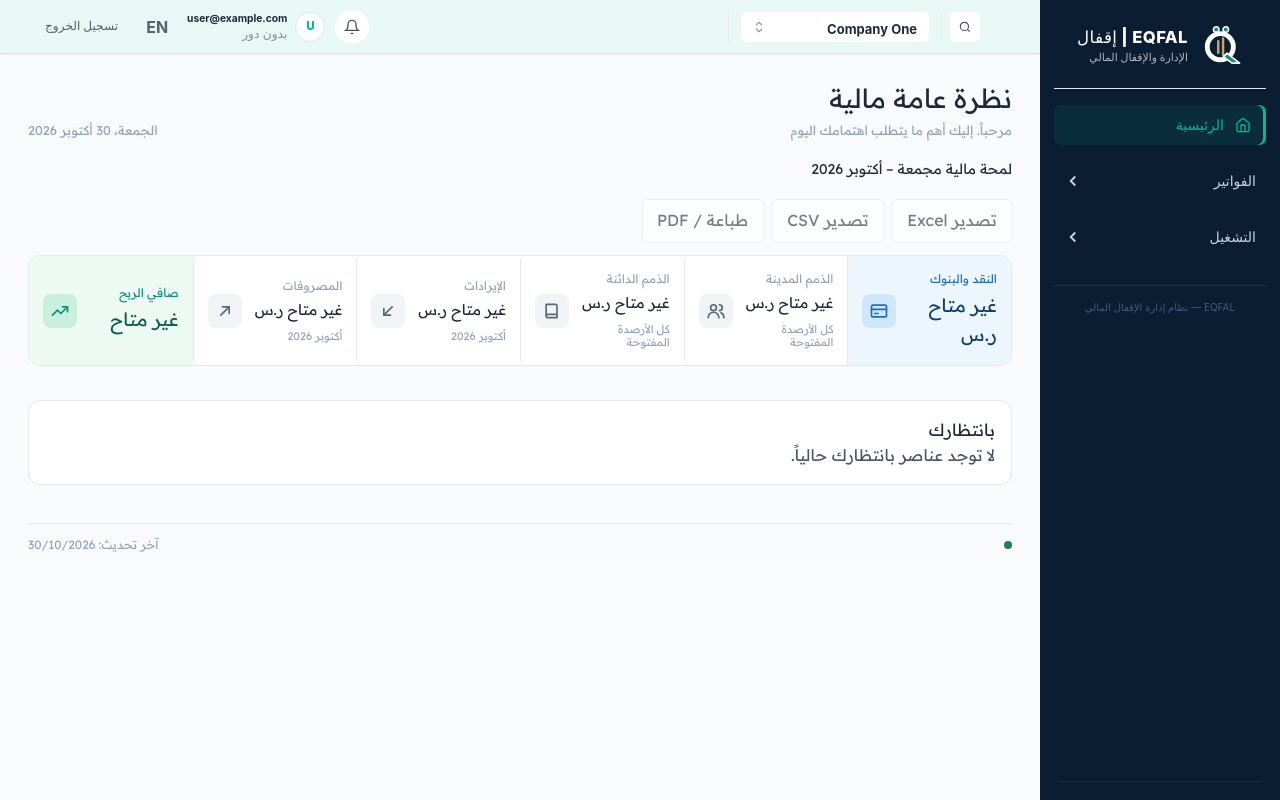
Test: authenticated application shell › collapsible groups › uses Arabic group and invoice labels
The image size is (1280, 800).
Click the button "الفواتير" at (1160, 181), box [1054,161,1266,201]
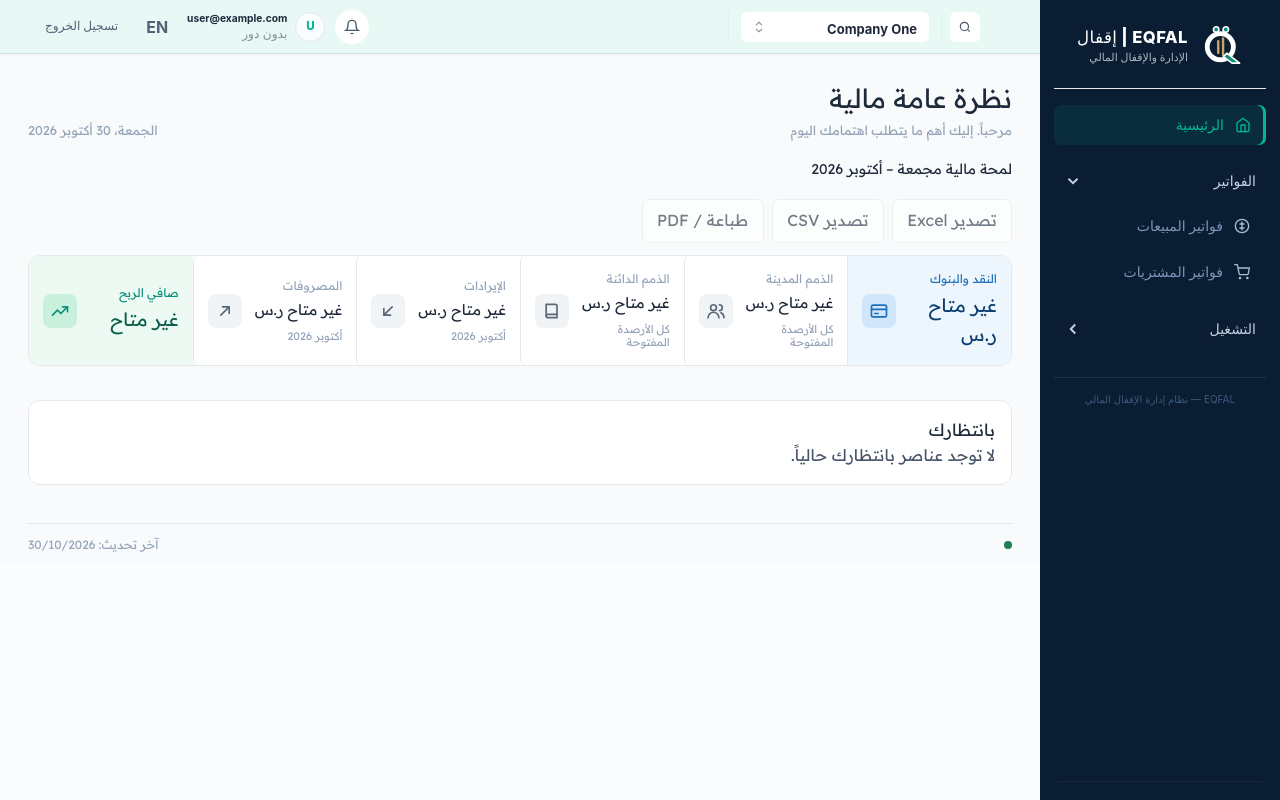
Expected: the button "فواتير المبيعات" is shown, [1054,205,1266,247]
Expected: the button "فواتير المشتريات" is shown, [1054,251,1266,293]
